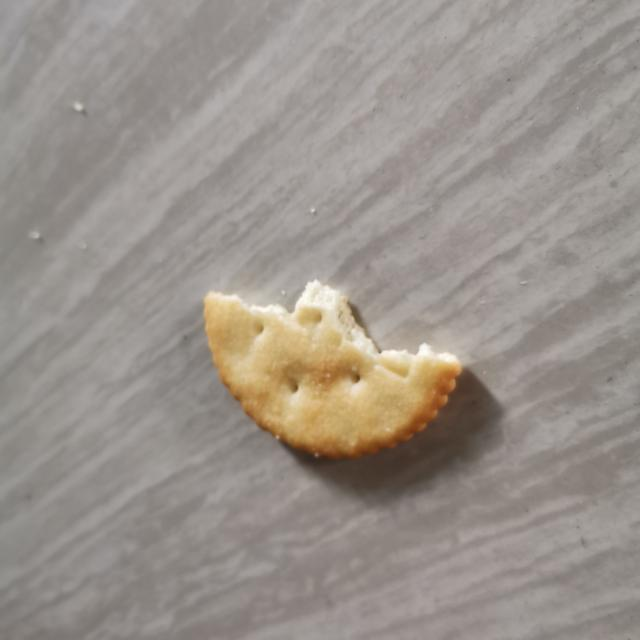Broken: (202, 277, 462, 460)
